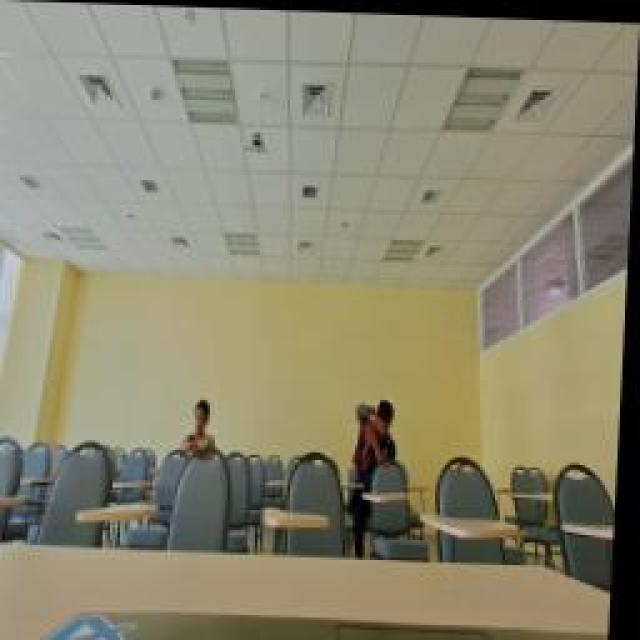phone: (185, 395, 223, 460)
